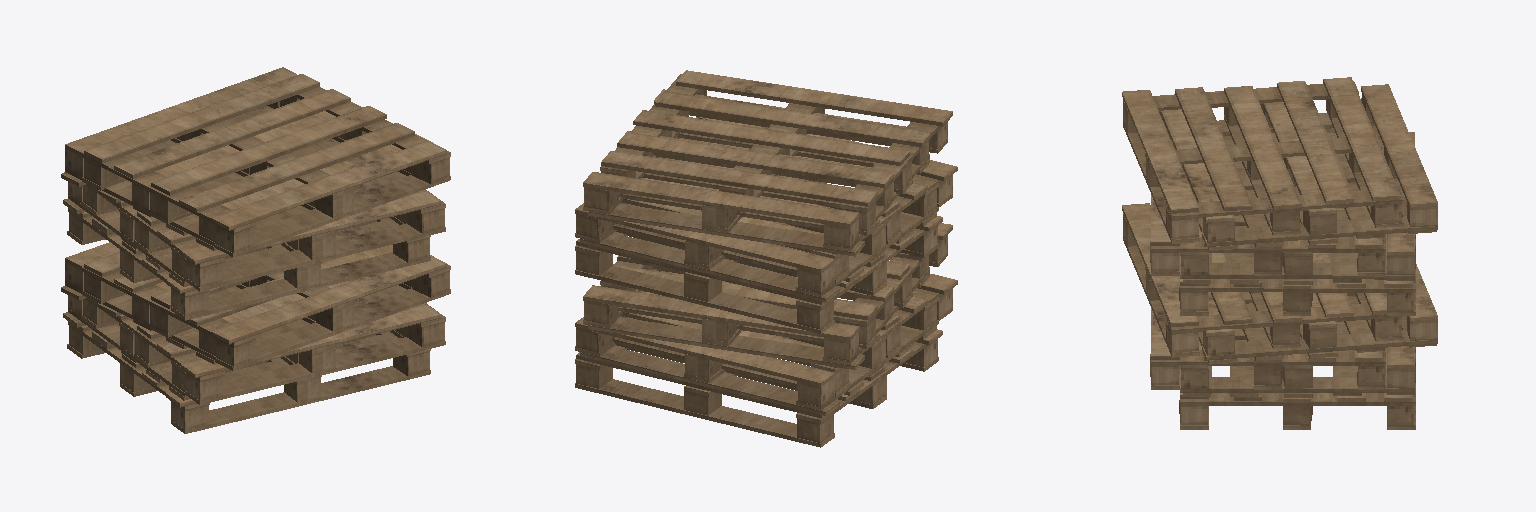
3 renders of one model, left to right at view 1: azimuth 30°, elevation 25°; view 2: azimuth 150°, elevation 25°; view 3: azimuth 270°, elevation 25°, orthographic.
Parts seen in each view (by area): view 1: Pallet_2_Mesh.032; view 2: Pallet_2_Mesh.032; view 3: Pallet_2_Mesh.032.
Boxes of the visible parts, box(x1,y1,x2,y2) form: Pallet_2_Mesh.032: box(61, 67, 450, 433); Pallet_2_Mesh.032: box(575, 70, 957, 447); Pallet_2_Mesh.032: box(1122, 77, 1437, 429).
Size of the model in its own units: 2 by 1.52 by 1.94.
Materials: 10 (1 with a texture image).